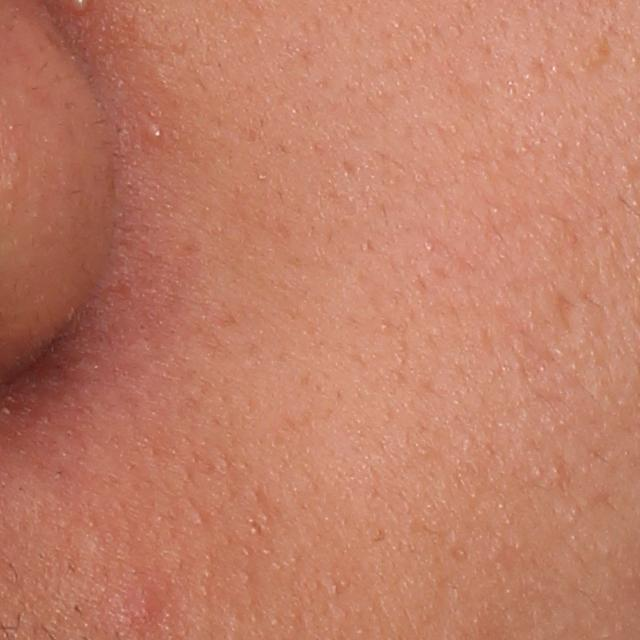atrophic_scar: (554, 290, 579, 341)
comedo: (147, 127, 163, 143)
